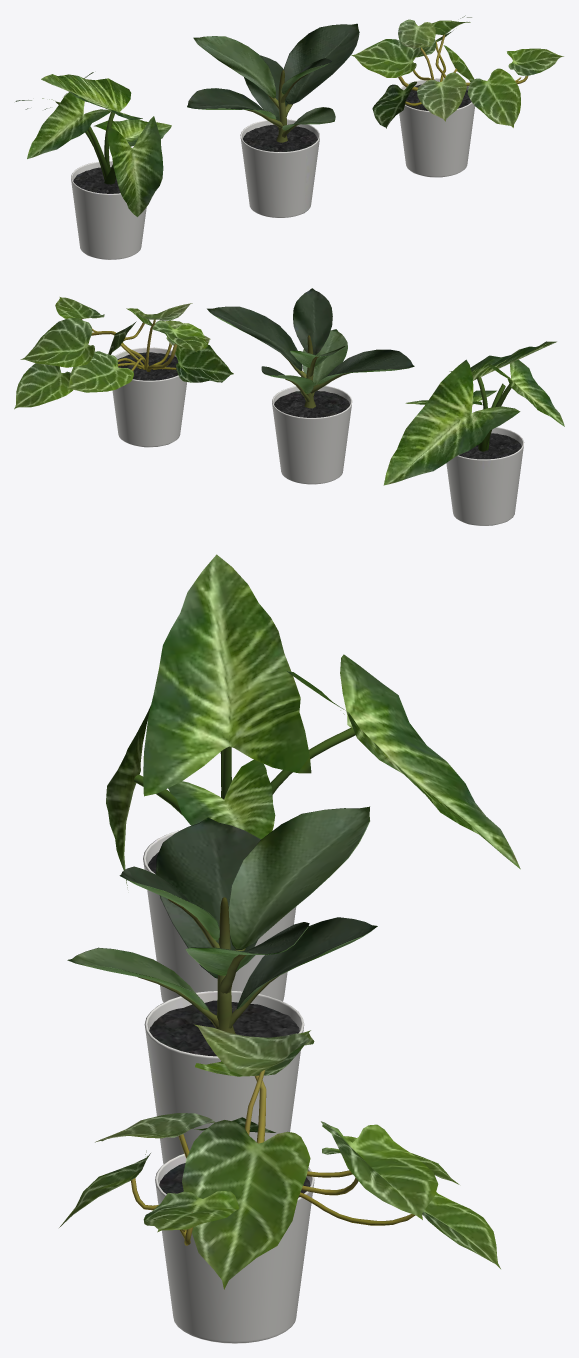
3 views of the same model, one above another, from view 1: azimuth 30°, elevation 25°; view 2: azimuth 150°, elevation 25°; view 3: azimuth 270°, elevation 25° (orthographic). The views are drawn at different scales.
Parts seen in each view (by area): view 1: 014; view 2: 014; view 3: 014.
Part boxes in pixels (x1,y1,x2,y2): 014: [15, 15, 563, 259]; 014: [14, 288, 564, 525]; 014: [59, 554, 520, 1343].
Bounding box in the file's own units: 0.4515 × 0.1549 × 0.1741.
Materials: 1 (1 with a texture image).
